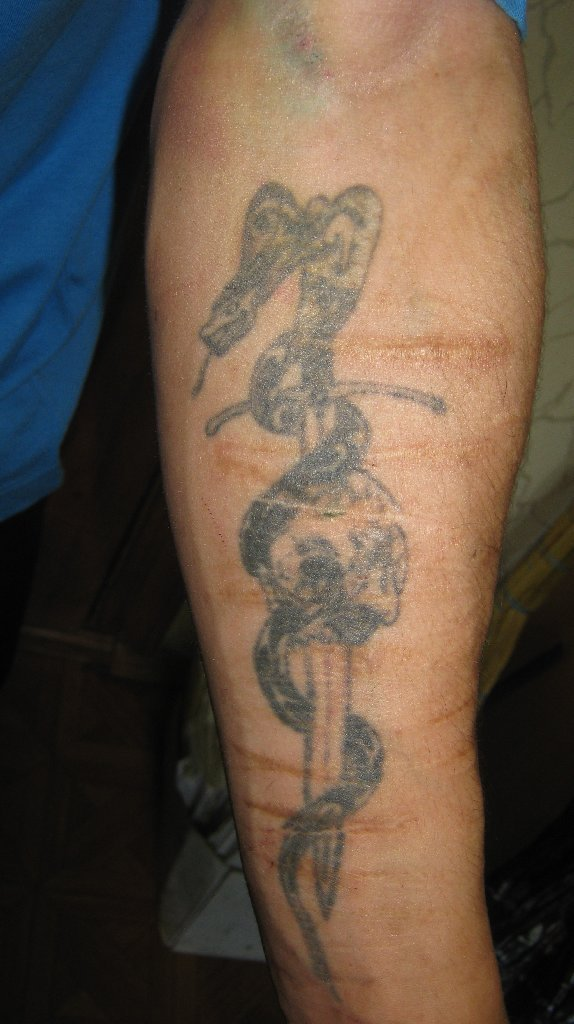tatu7_zmeya: (181, 126, 441, 940)
